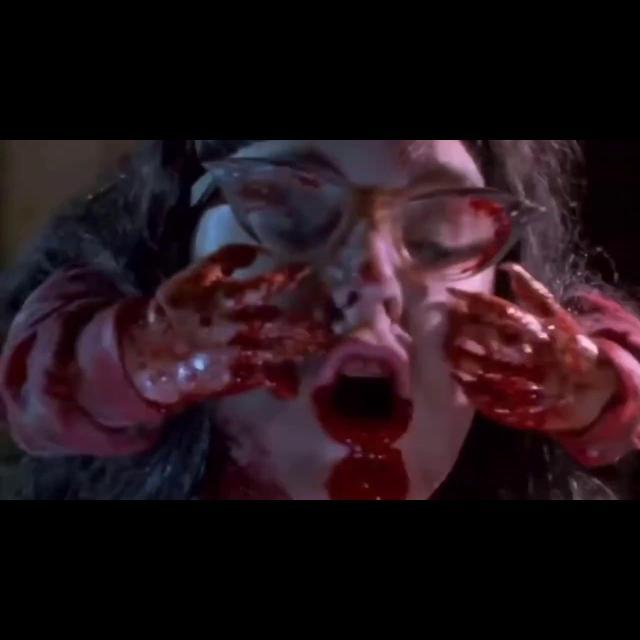blood: (0, 244, 412, 499), (442, 264, 640, 466), (208, 152, 358, 258), (207, 424, 299, 500), (458, 198, 515, 281), (361, 258, 384, 287)
